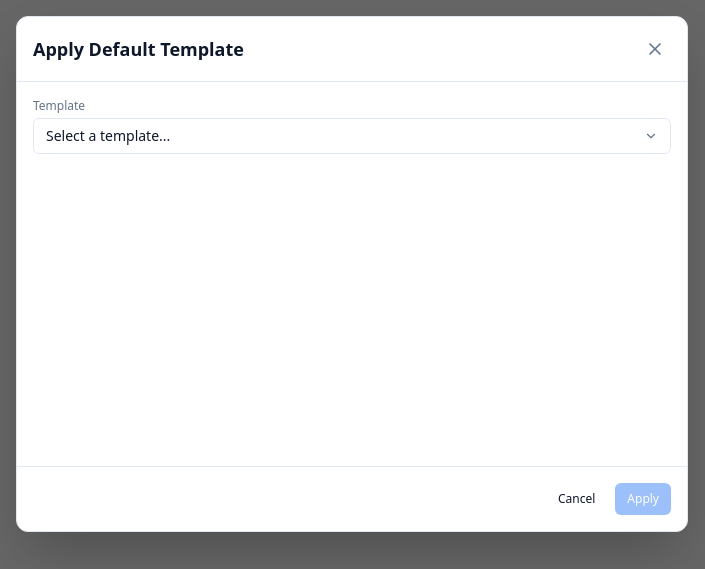
Test: TemplatePickerDialog › shows preview when a template is selected
Expected: the text "Template" is shown, [33,97,85,114]
Click the button "Select a template...": (108, 136) [33,118,671,154]
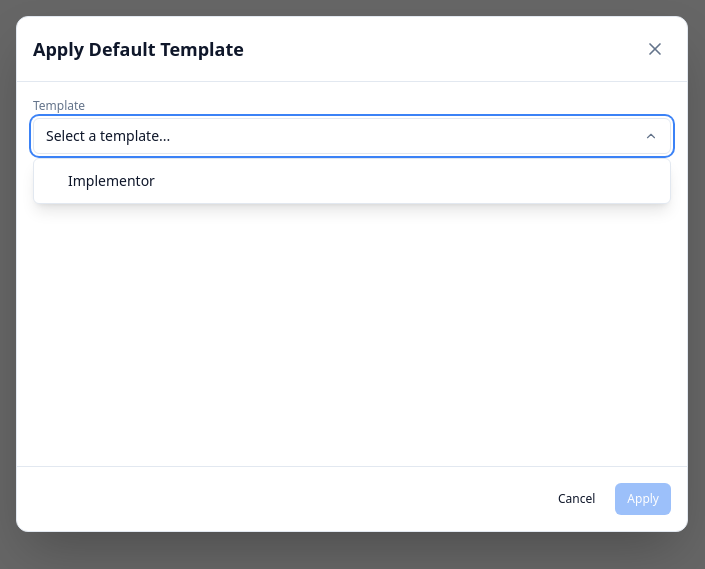
Click the text "Implementor": (111, 181) [68,171,155,191]
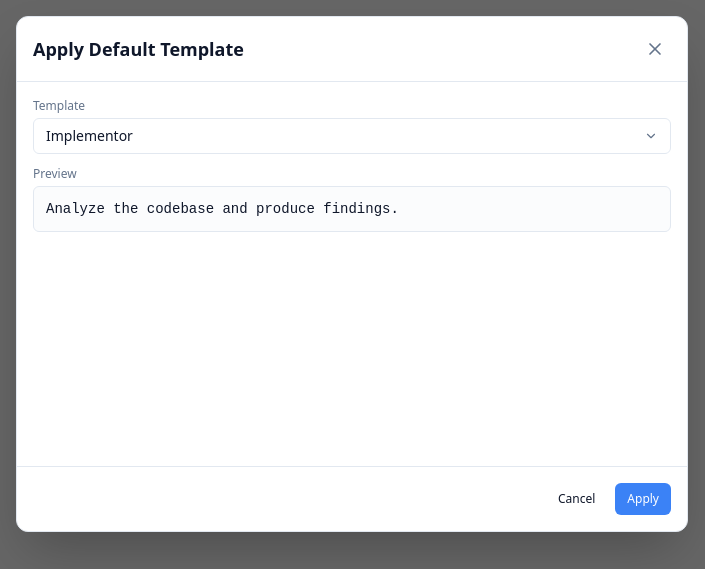
Now the text "Preview" is shown, box [33,165,77,182]
Now the text "Analyze the codebase and produce findings." is shown, box [46,201,399,217]
